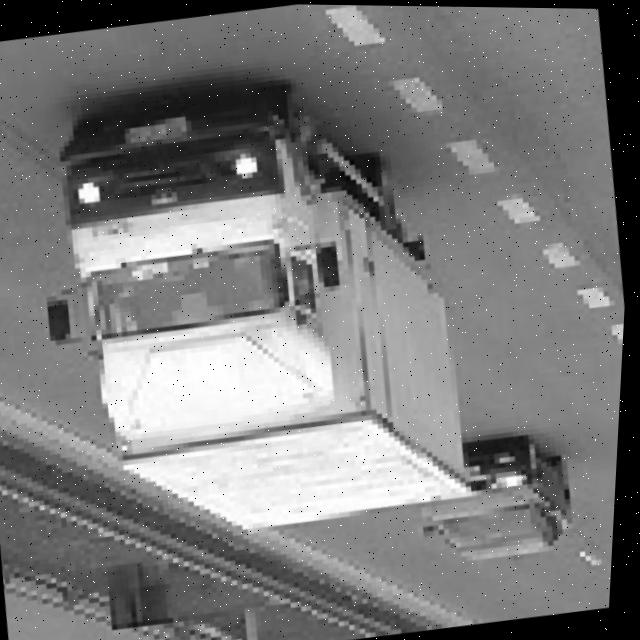truck: (17, 63, 392, 489)
